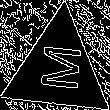M_W: (33, 43, 84, 95)
